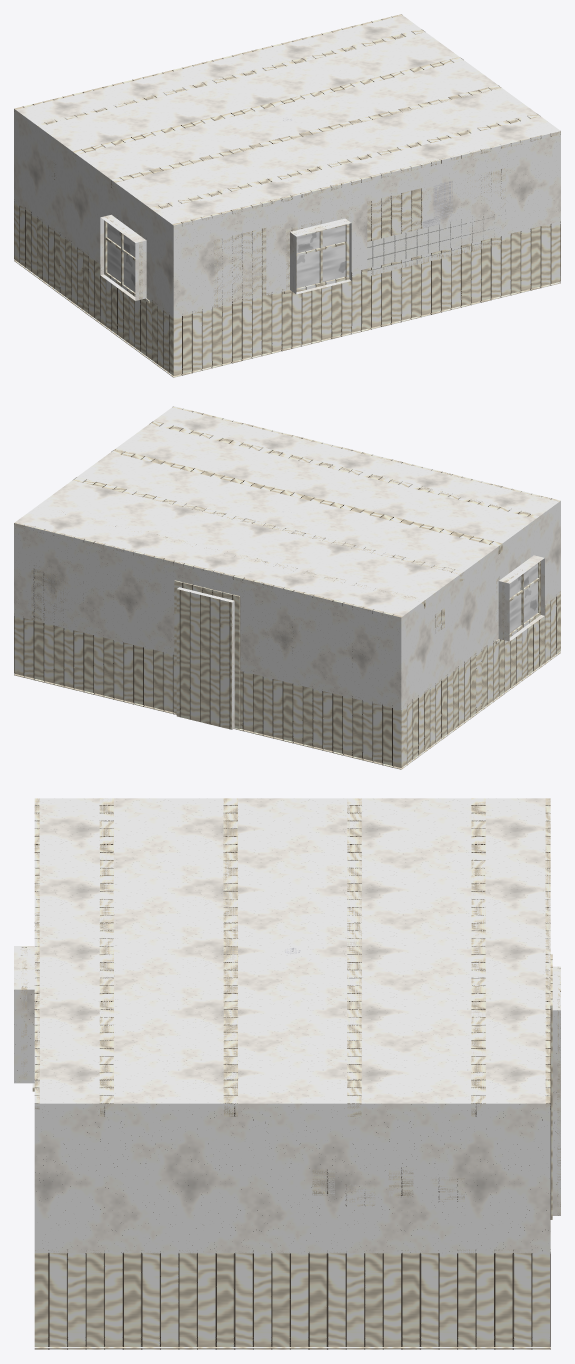
Rendered from casa_interno.obj.
3 views of the same model, one above another, from view 1: azimuth 30°, elevation 25°; view 2: azimuth 150°, elevation 25°; view 3: azimuth 270°, elevation 25° (orthographic). The views are drawn at different scales.
Parts seen in each view (by area): view 1: casa_interno; view 2: casa_interno; view 3: casa_interno.
Part boxes in pixels (bbox=[...]): casa_interno: bbox=[14, 14, 560, 377]; casa_interno: bbox=[14, 406, 560, 769]; casa_interno: bbox=[14, 798, 560, 1349].
Size of the model in its own units: 7.2 by 2.63 by 5.3.
Materials: 102 (79 with a texture image).
